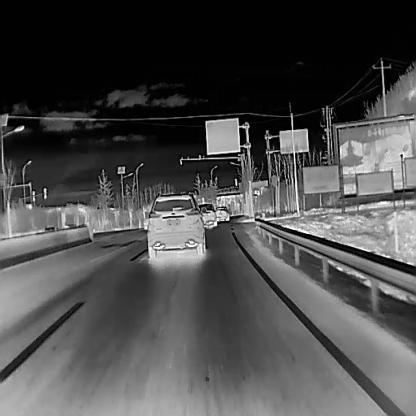car: (146, 194, 207, 259), (197, 203, 217, 229), (214, 206, 229, 220)
